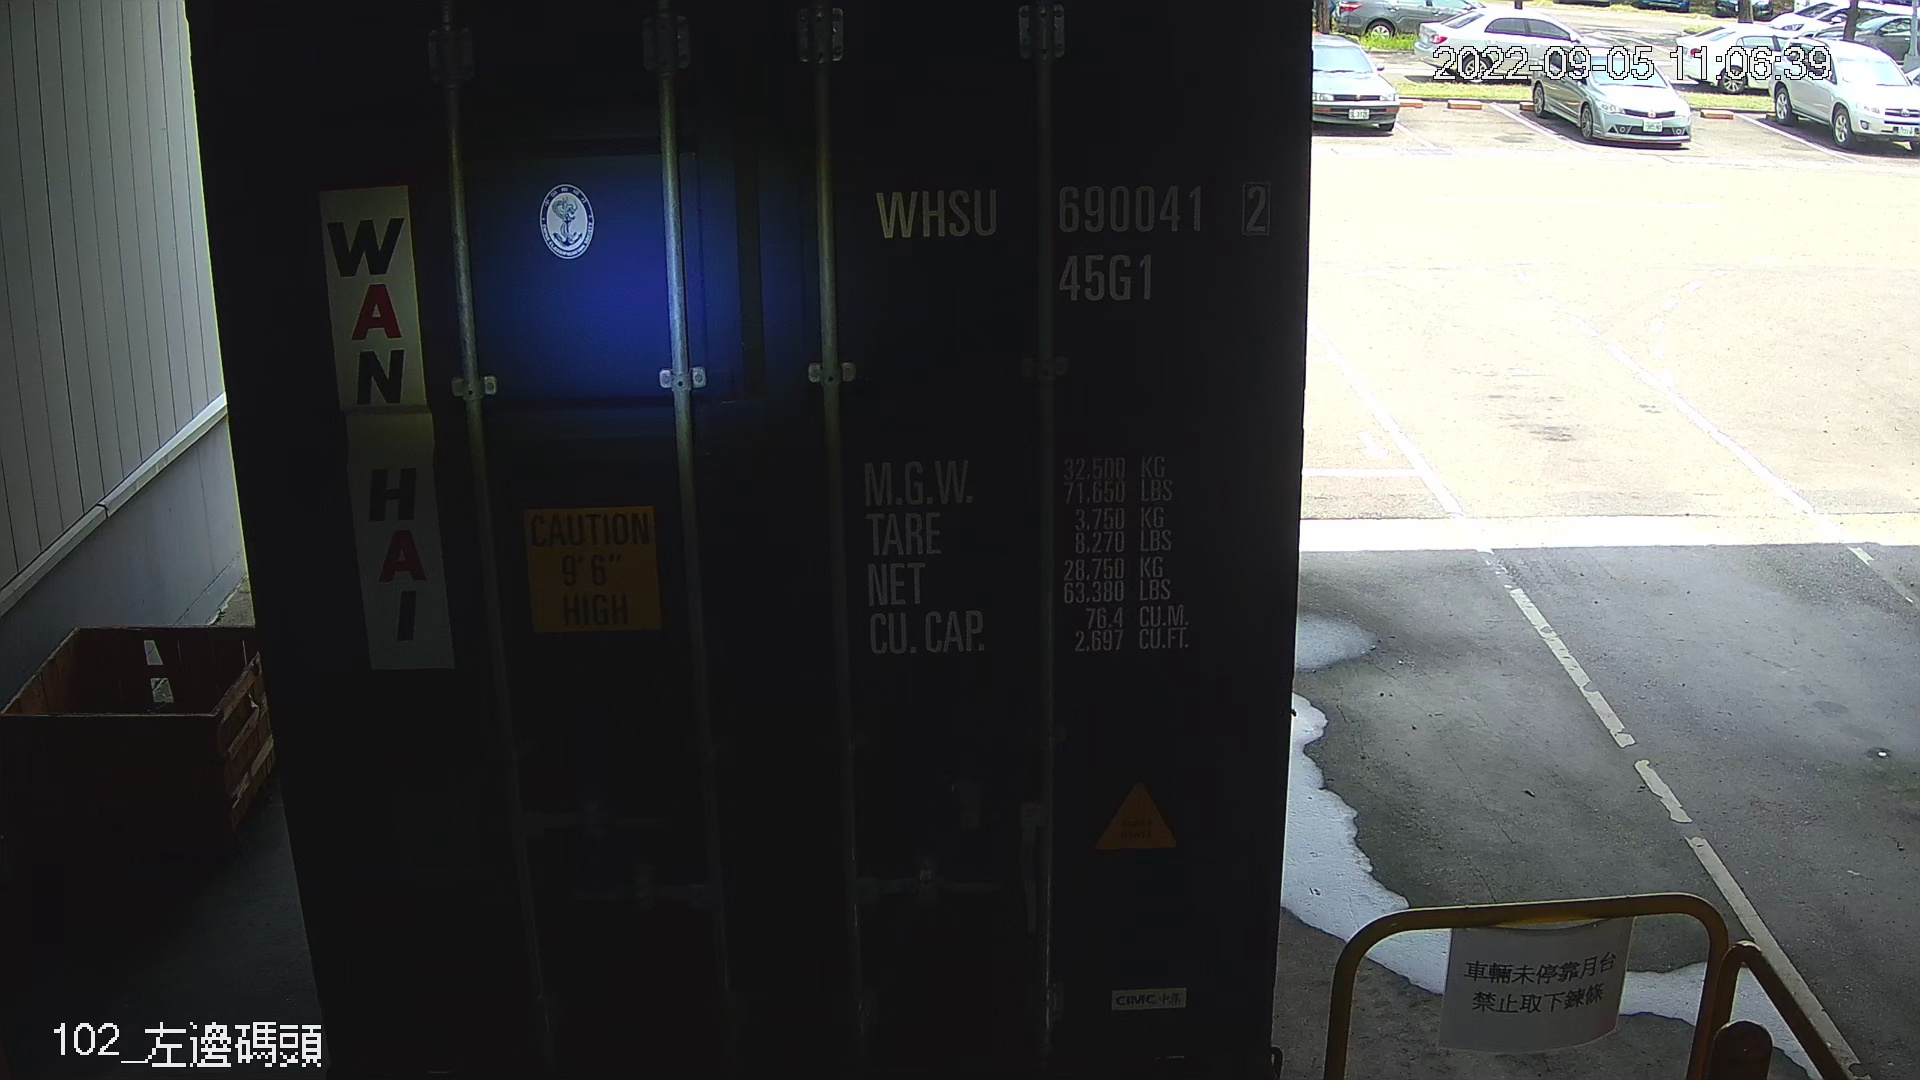container: (864, 166, 1280, 316)
